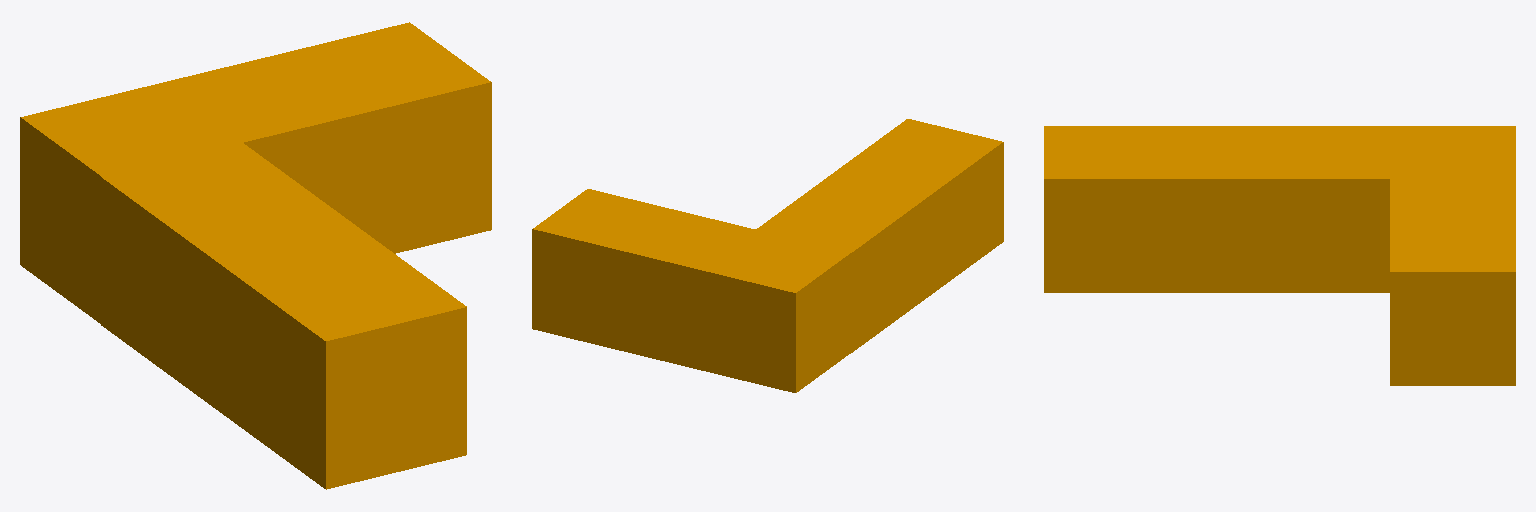
The robot description file, URDF, robot "Abstract_robot":
<?xml version="1.0"?>
<robot name="Abstract_robot">
  <link name="base_link">
    <visual>
      <geometry>
        <mesh filename="package://hpp-ompl-benchmark/mesh/Abstract_robot.stl"/>
      </geometry>
    </visual>
  </link>
</robot>

--- What the picture shows (computed from the rendered views, not written in the file) ---
Views: 3 orthographic renders of the robot side by side, from view 1: azimuth 30°, elevation 25°; view 2: azimuth 150°, elevation 25°; view 3: azimuth 270°, elevation 25°.
Robot: Abstract_robot — 1 links, 0 joints (none); root link base_link; default pose: every joint at zero.
Visible links, largest first — view 1: base_link; view 2: base_link; view 3: base_link.
Link boxes in pixels (left/top/right/bottom): base_link: left=20, top=22, right=491, bottom=489; base_link: left=532, top=119, right=1003, bottom=392; base_link: left=1044, top=126, right=1515, bottom=385.
Size in the robot's own frame: 1.32 by 1.8 by 0.48 metres.
Meshes: 1 distinct files referenced, 1 mesh visuals loaded (1 binary STL).